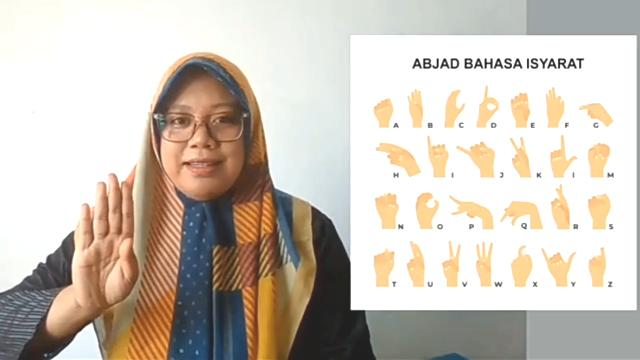B: (71, 171, 139, 313)
